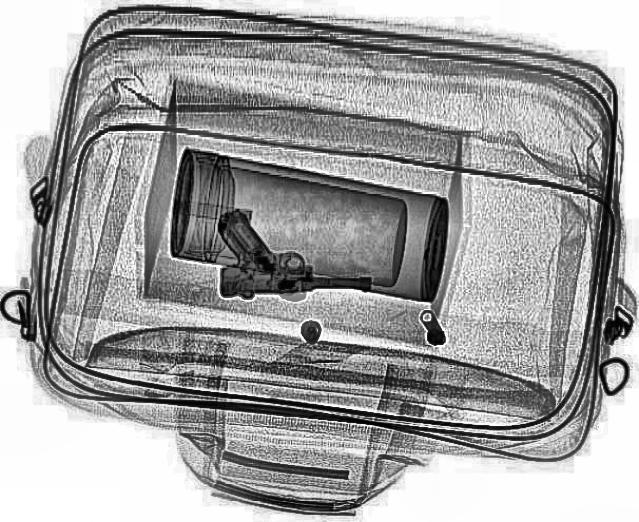Gun: (213, 202, 375, 296)
